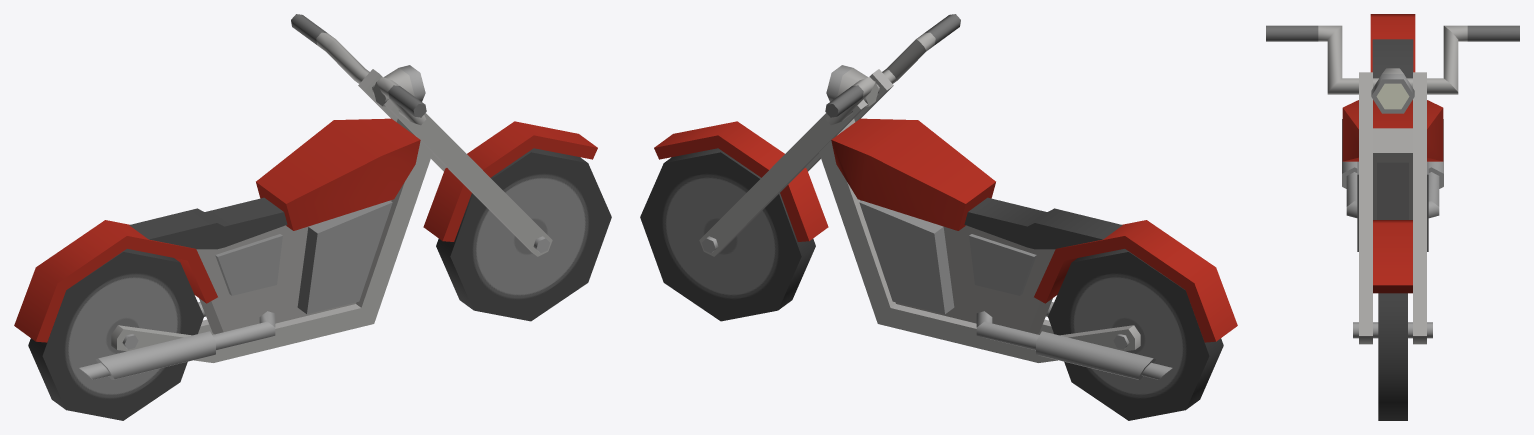
The model's file is west_che08.FBX.
The picture shows the model from 3 angles, left to right: view 1: azimuth 30°, elevation 25°; view 2: azimuth 150°, elevation 25°; view 3: azimuth 270°, elevation 25°; orthographic projection. The views are drawn at different scales.
Visible parts, largest first — view 1: west_che08; view 2: west_che08; view 3: west_che08.
Part boxes in pixels (bbox=[...]): west_che08: bbox=[14, 14, 611, 420]; west_che08: bbox=[640, 14, 1237, 420]; west_che08: bbox=[1266, 14, 1519, 420].
Size of the model in its own units: 614 by 301 by 225.
